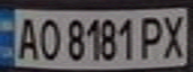1: (115, 15, 139, 61), (81, 16, 103, 61)
8: (63, 15, 84, 62), (100, 16, 118, 61)
A: (12, 14, 42, 61)
O: (36, 15, 63, 62)
P: (136, 12, 166, 60)
X: (157, 11, 190, 60)
